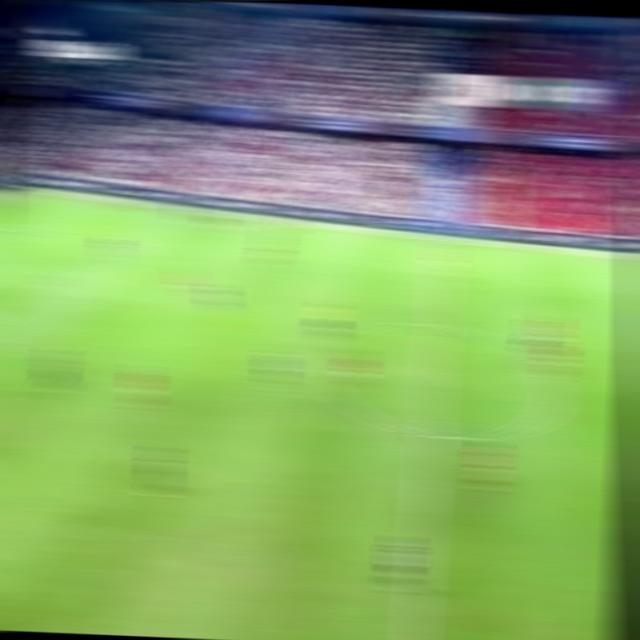bigarea_top_inner: (98, 234, 123, 248)
corner: (19, 184, 48, 195)
halfcircle_bottom: (413, 418, 449, 447)
halfcircle_top: (420, 309, 457, 336)
midline_top_intersection: (429, 233, 463, 248)
top_arc_area_intersection: (40, 275, 68, 290)
